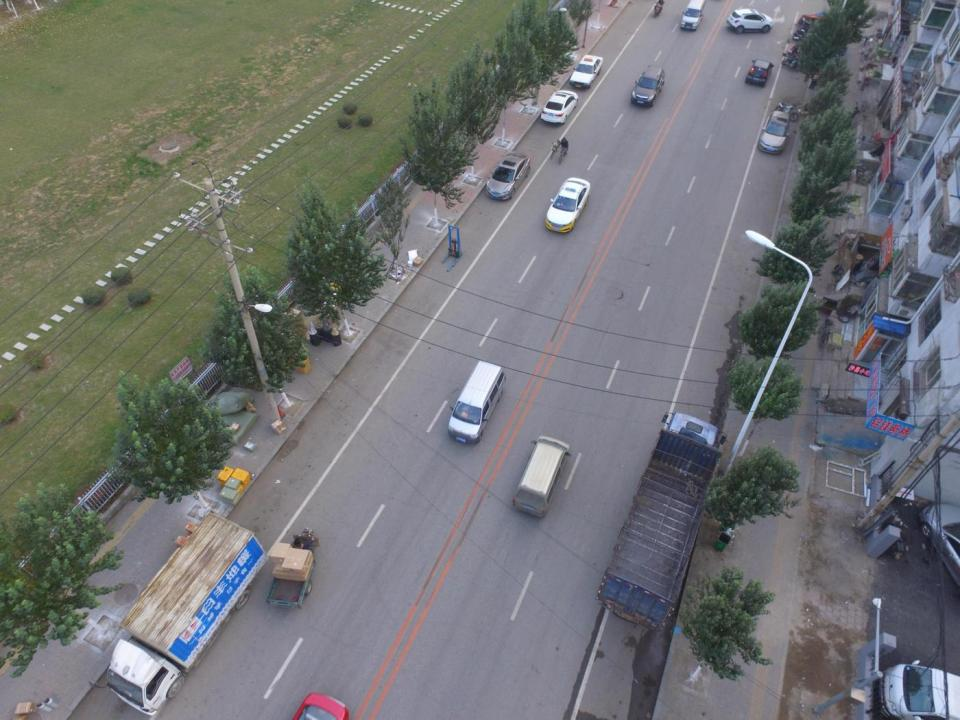car: (875, 659, 960, 720), (918, 503, 960, 596), (545, 178, 591, 233), (486, 151, 532, 199), (630, 64, 666, 108), (757, 110, 791, 155), (540, 90, 579, 125), (569, 54, 604, 89), (725, 9, 773, 34), (745, 59, 774, 88)
truck: (88, 510, 268, 717), (595, 412, 728, 634)
van: (511, 435, 571, 520), (447, 360, 507, 445), (680, 0, 707, 31)
